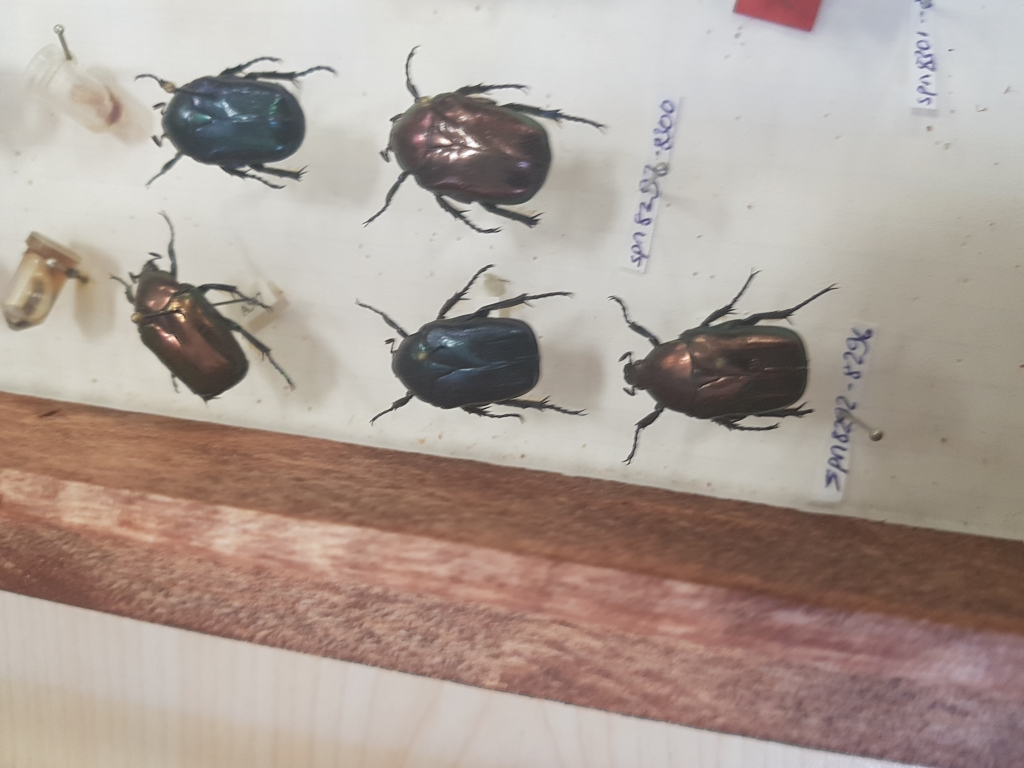Protaetia_besucheti: (598, 253, 854, 477), (349, 259, 595, 454)
